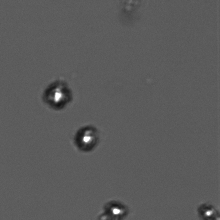Living Cell: (196, 202, 218, 220), (50, 87, 67, 103), (79, 132, 93, 145), (108, 205, 124, 216)
